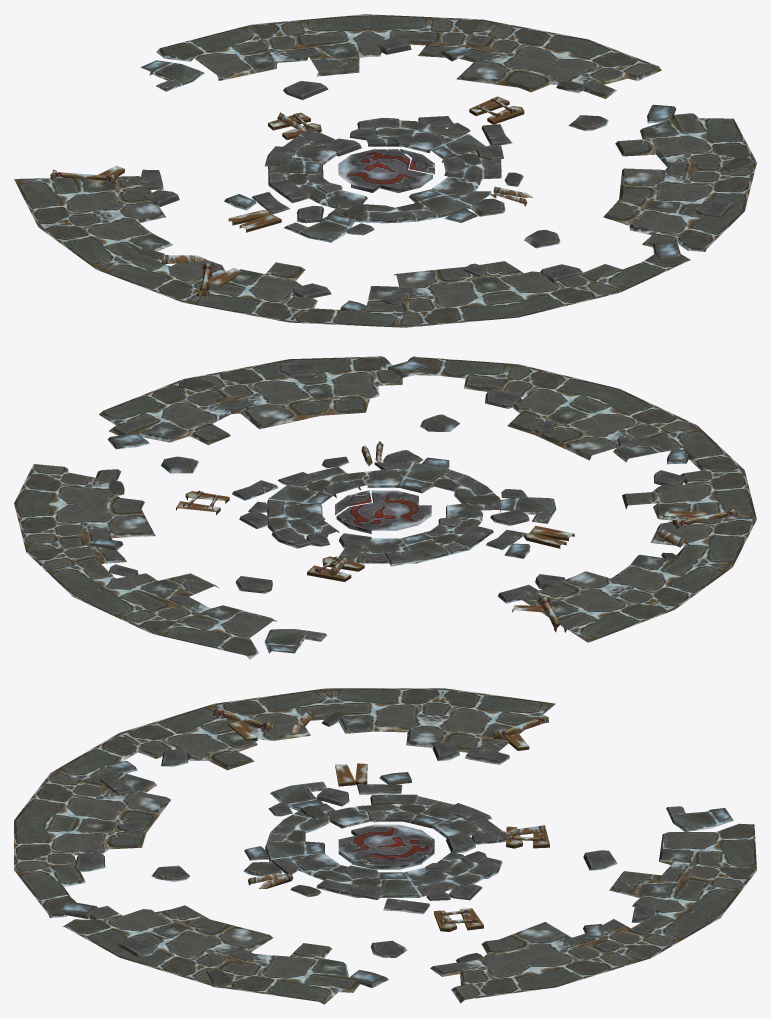
File: terrain_section05_guanka10_dimian.FBX
3 renders of one model, top to bottom at view 1: azimuth 30°, elevation 25°; view 2: azimuth 150°, elevation 25°; view 3: azimuth 270°, elevation 25°, orthographic.
Visible parts, largest first — view 1: terrain_section05_guanka10_dimian; view 2: terrain_section05_guanka10_dimian; view 3: terrain_section05_guanka10_dimian.
Boxes of the visible parts, x1,y1,x2,y2 form: terrain_section05_guanka10_dimian: (14,14,756,327); terrain_section05_guanka10_dimian: (14,356,756,659); terrain_section05_guanka10_dimian: (14,688,756,1004).
Size of the model in its own units: 44.91 by 45 by 0.8722.
